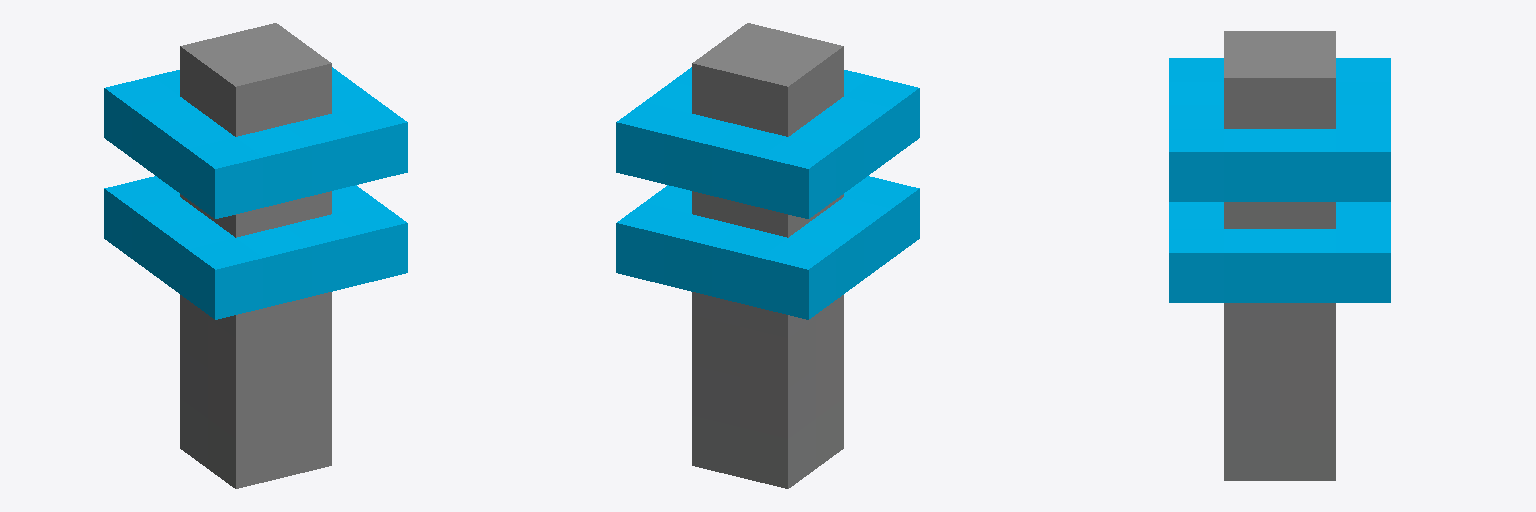
3 renders of one model, left to right at view 1: azimuth 30°, elevation 25°; view 2: azimuth 150°, elevation 25°; view 3: azimuth 270°, elevation 25°, orthographic.
Visible parts, largest first — view 1: cube1, cube2, cube3; view 2: cube1, cube2, cube3; view 3: cube1, cube2, cube3.
Boxes of the visible parts, x1=… form: cube1: x1=180, y1=23, x2=331, y2=488; cube2: x1=104, y1=67, x2=407, y2=218; cube3: x1=104, y1=176, x2=407, y2=319; cube1: x1=692, y1=23, x2=843, y2=488; cube2: x1=616, y1=67, x2=919, y2=218; cube3: x1=616, y1=176, x2=919, y2=319; cube1: x1=1224, y1=31, x2=1335, y2=480; cube2: x1=1169, y1=58, x2=1390, y2=201; cube3: x1=1169, y1=202, x2=1390, y2=302.
Size of the model in its own units: 0.25 by 0.5 by 0.25.
1 materials, 1 textured.